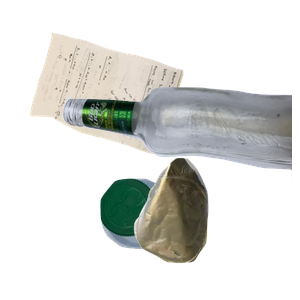glass: (60, 84, 300, 260)
paper: (27, 30, 203, 178)
plastic: (98, 176, 266, 300)
trash: (131, 155, 300, 300)
